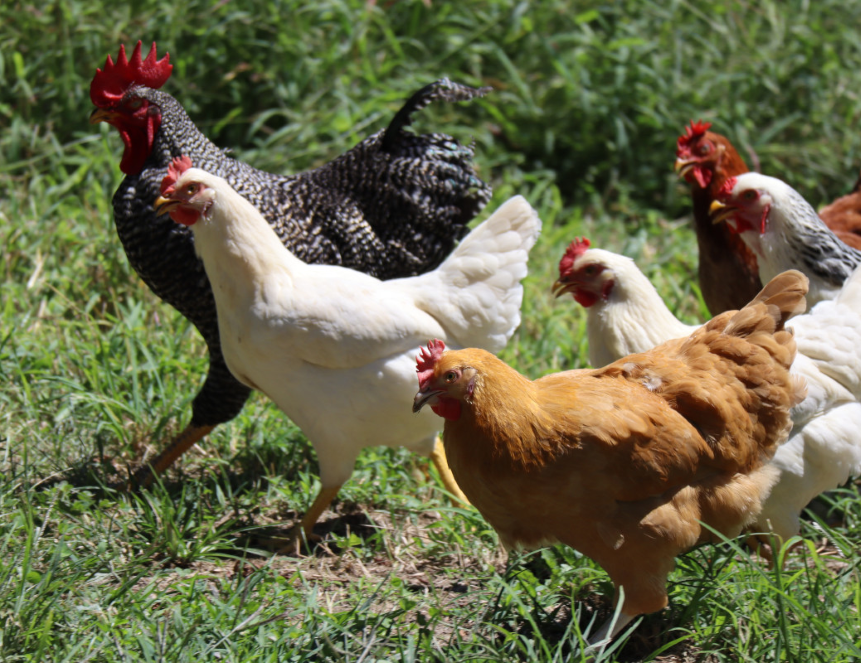chicken: (48, 42, 449, 439), (157, 152, 519, 477), (409, 348, 761, 628)
